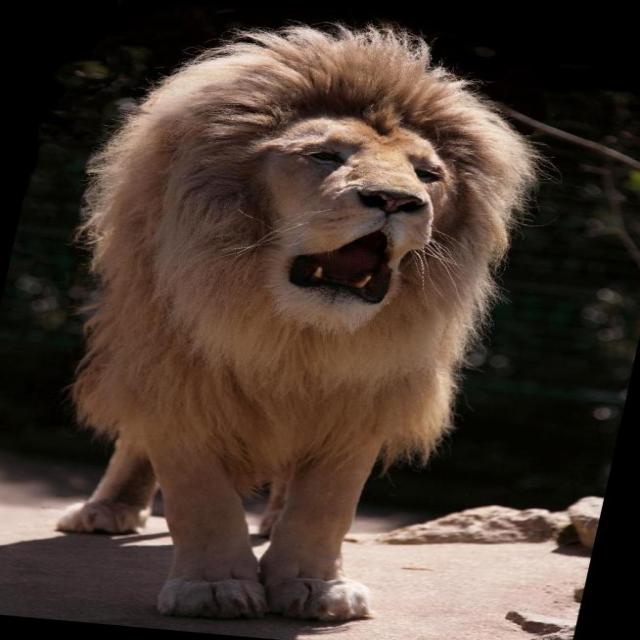Lion: (0, 0, 592, 639)
